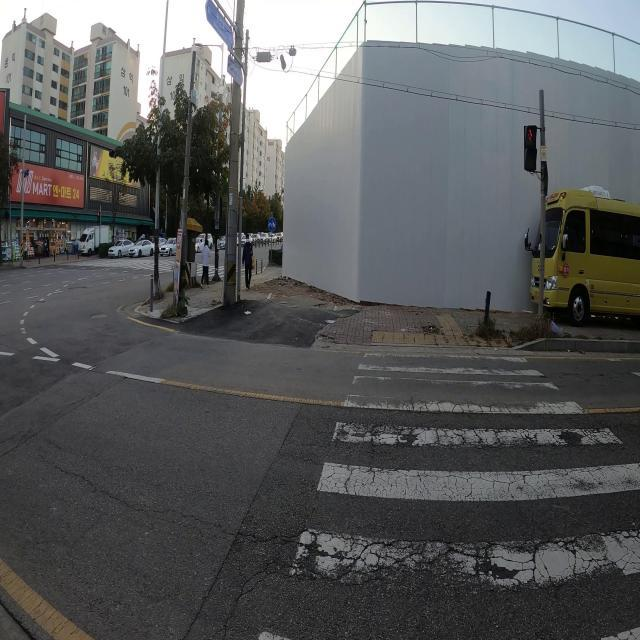crosswalk: (260, 350, 640, 640), (58, 259, 257, 280)
